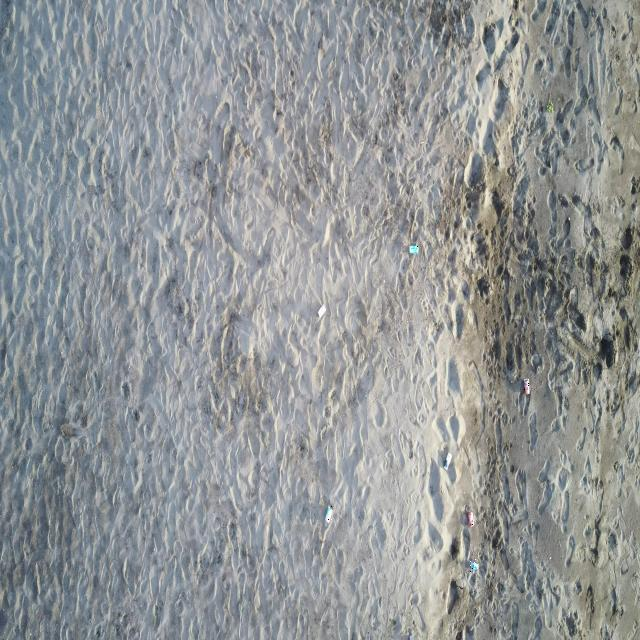tin-and-aluminum-cans: (443, 450, 453, 470), (324, 505, 333, 524), (317, 303, 327, 320), (408, 244, 420, 256), (470, 559, 480, 572), (523, 378, 530, 396), (468, 510, 474, 528)
